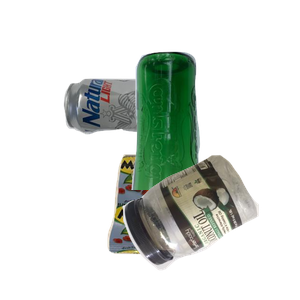glass: (129, 49, 300, 229)
metal: (61, 75, 231, 202)
plastic: (120, 152, 300, 300)
trash: (105, 152, 280, 300)
